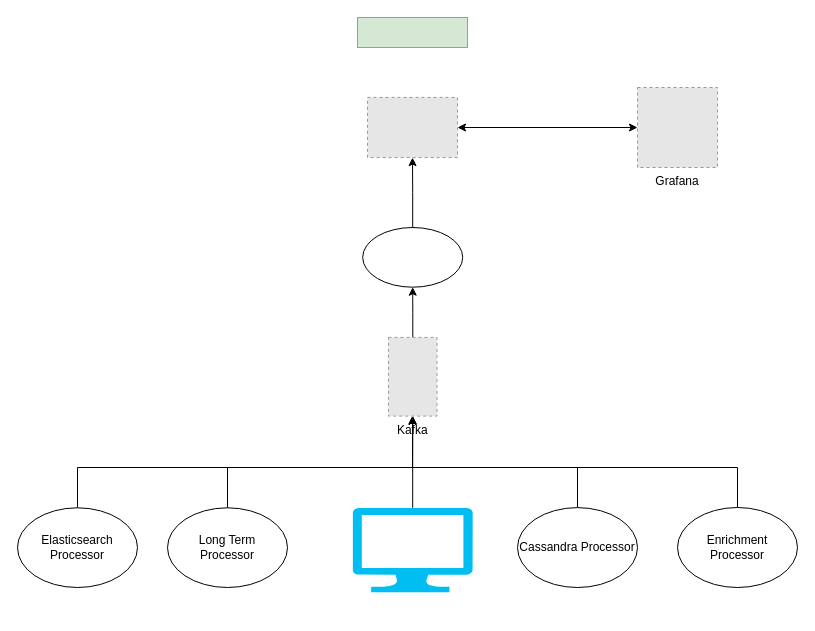
This 815x631 diagram has some shape labels left out. Grey dashed boxes stand in for pictures. Here are the shapes that lost their labels. From the top down, the centre of each, then its label:
At point (412, 32): "Metrics Flow".
At point (412, 256): "Metrics Processor".
At point (412, 549): "Twitter Message Generator".
